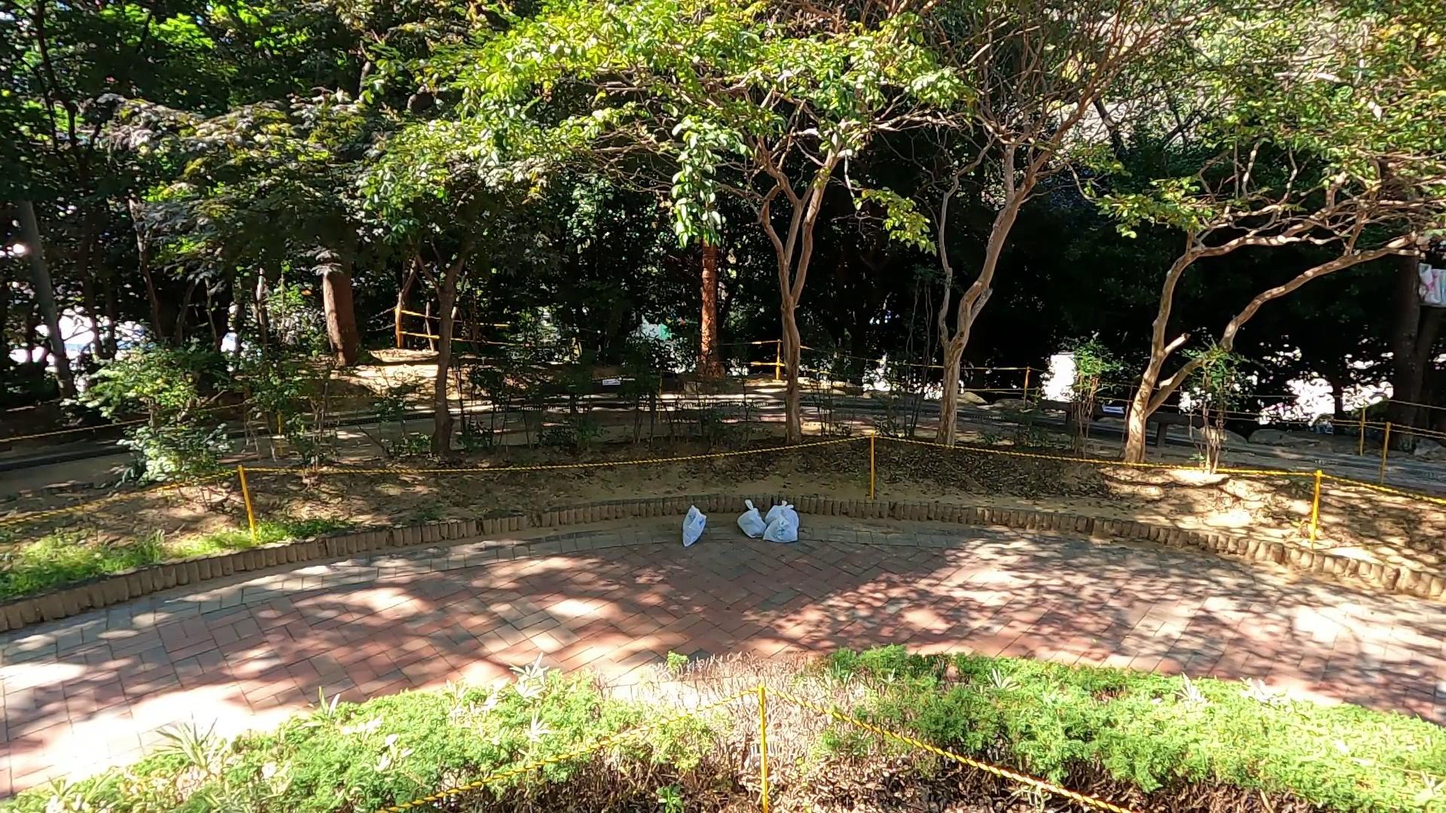trash: (761, 496, 802, 533), (678, 502, 710, 549), (735, 497, 768, 540), (762, 513, 800, 547)
